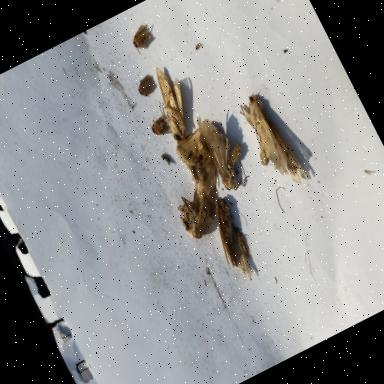abw: (230, 87, 312, 199), (190, 103, 262, 196), (197, 192, 265, 286), (169, 123, 240, 208), (140, 59, 204, 144), (165, 170, 234, 244)
pbw: (126, 18, 164, 56), (132, 72, 161, 101), (147, 113, 173, 140)
